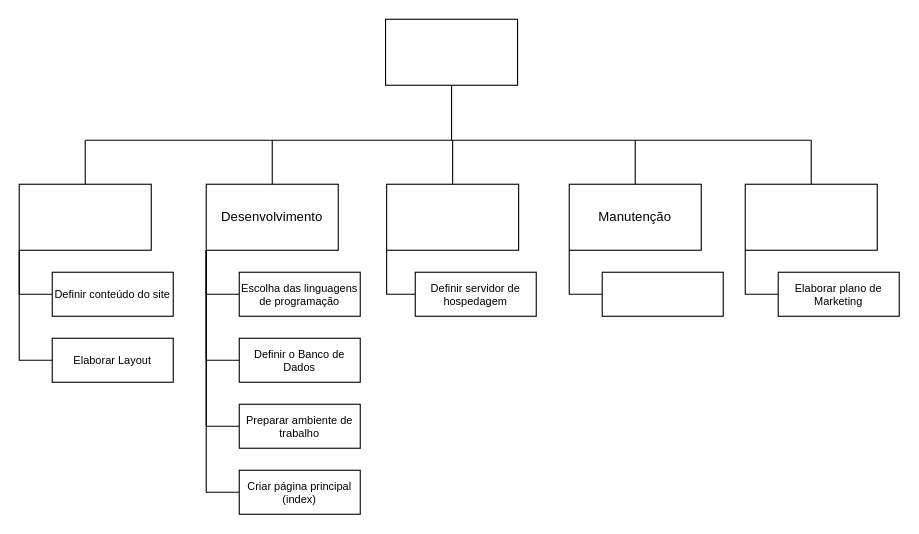
Some shapes in this 919 by 534 pixel diagram are drawn without their labels. Each missing label, with the box of its shape:
Atualização das informações e serviços: (601, 271, 723, 316)
Divulgação: (744, 183, 877, 250)
Hospedagem: (386, 183, 519, 250)
IDEIA - Marketing e Assessoria: (384, 18, 518, 85)
Planejamento: (18, 183, 151, 250)
